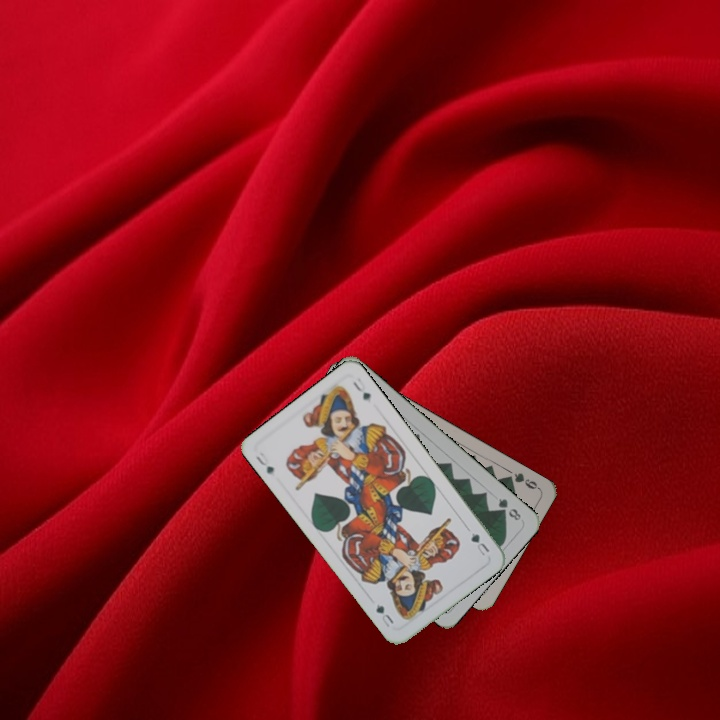G8: (494, 494, 524, 523)
G9: (502, 469, 542, 492)
GU: (466, 528, 492, 558), (252, 452, 277, 478)
